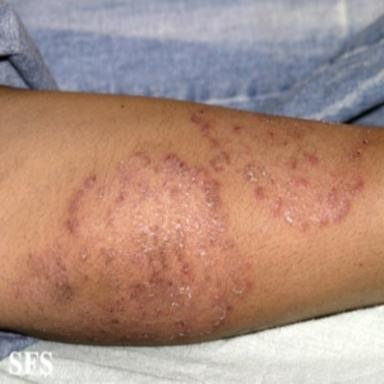Tinea-Corporis: (9, 109, 368, 341)
